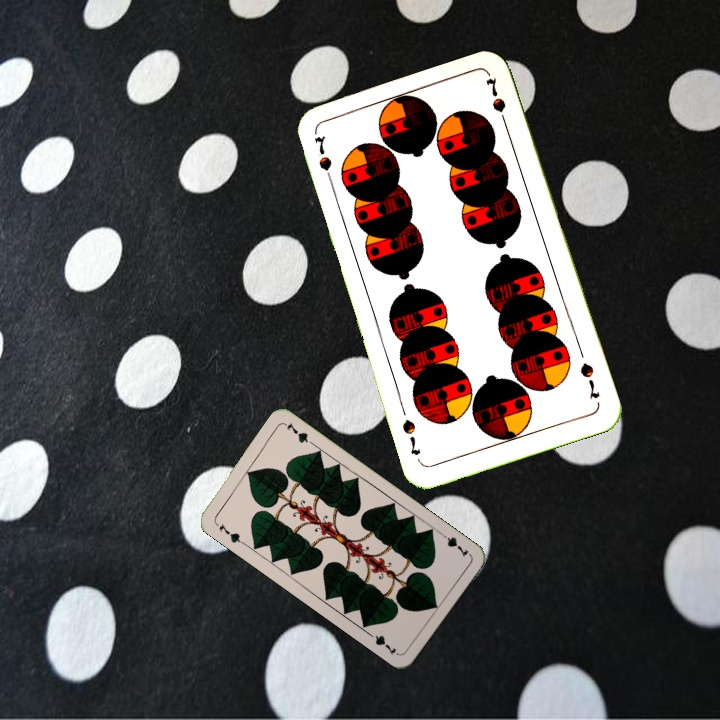G7: (436, 528, 471, 559), (211, 519, 247, 547)
S7: (310, 131, 336, 189), (576, 359, 603, 402)
